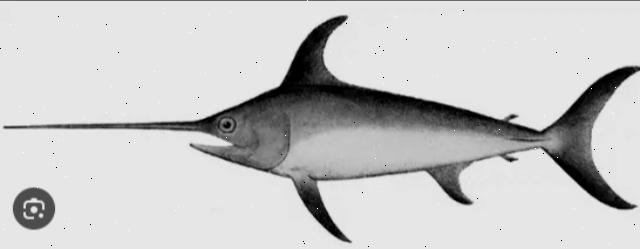Mulut: (1, 86, 260, 176)
Sirip Anal: (492, 110, 528, 170)
Sirip Dada: (280, 160, 359, 249)
Sirip Ekor: (544, 52, 640, 222)
Sirip Perut: (413, 154, 487, 214)
Sirip Punggung: (276, 7, 364, 95)
